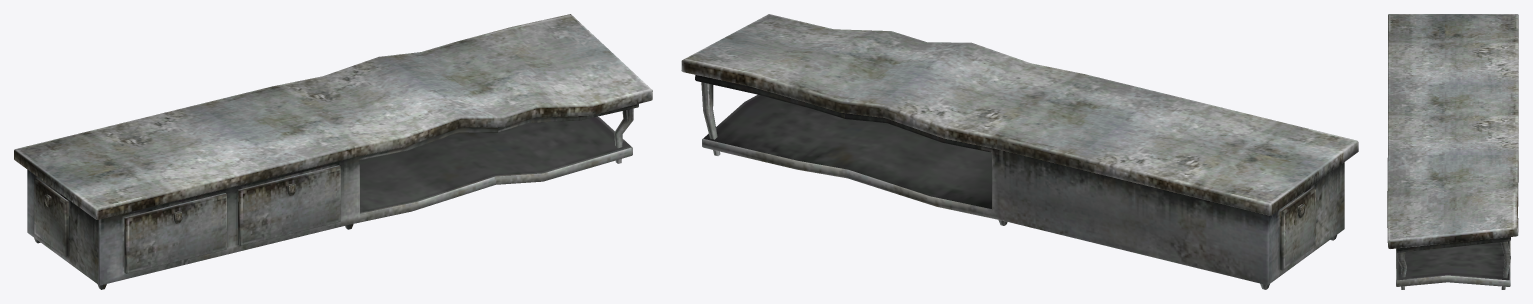
The model's file is AA_Kitchen_CounterB_DMG_St.obj.
3 views of the same model, side by side, from view 1: azimuth 30°, elevation 25°; view 2: azimuth 150°, elevation 25°; view 3: azimuth 270°, elevation 25° (orthographic). The views are drawn at different scales.
Parts seen in each view (by area): view 1: AA_Kitchen_CounterB_DMG_St; view 2: AA_Kitchen_CounterB_DMG_St; view 3: AA_Kitchen_CounterB_DMG_St.
Part boxes in pixels (box(x1,y1,x2,y2)): AA_Kitchen_CounterB_DMG_St: box(14, 14, 652, 289); AA_Kitchen_CounterB_DMG_St: box(681, 14, 1358, 289); AA_Kitchen_CounterB_DMG_St: box(1387, 14, 1518, 289).
Size of the model in its own units: 623 by 99.86 by 161.
1 material, 1 textured.
